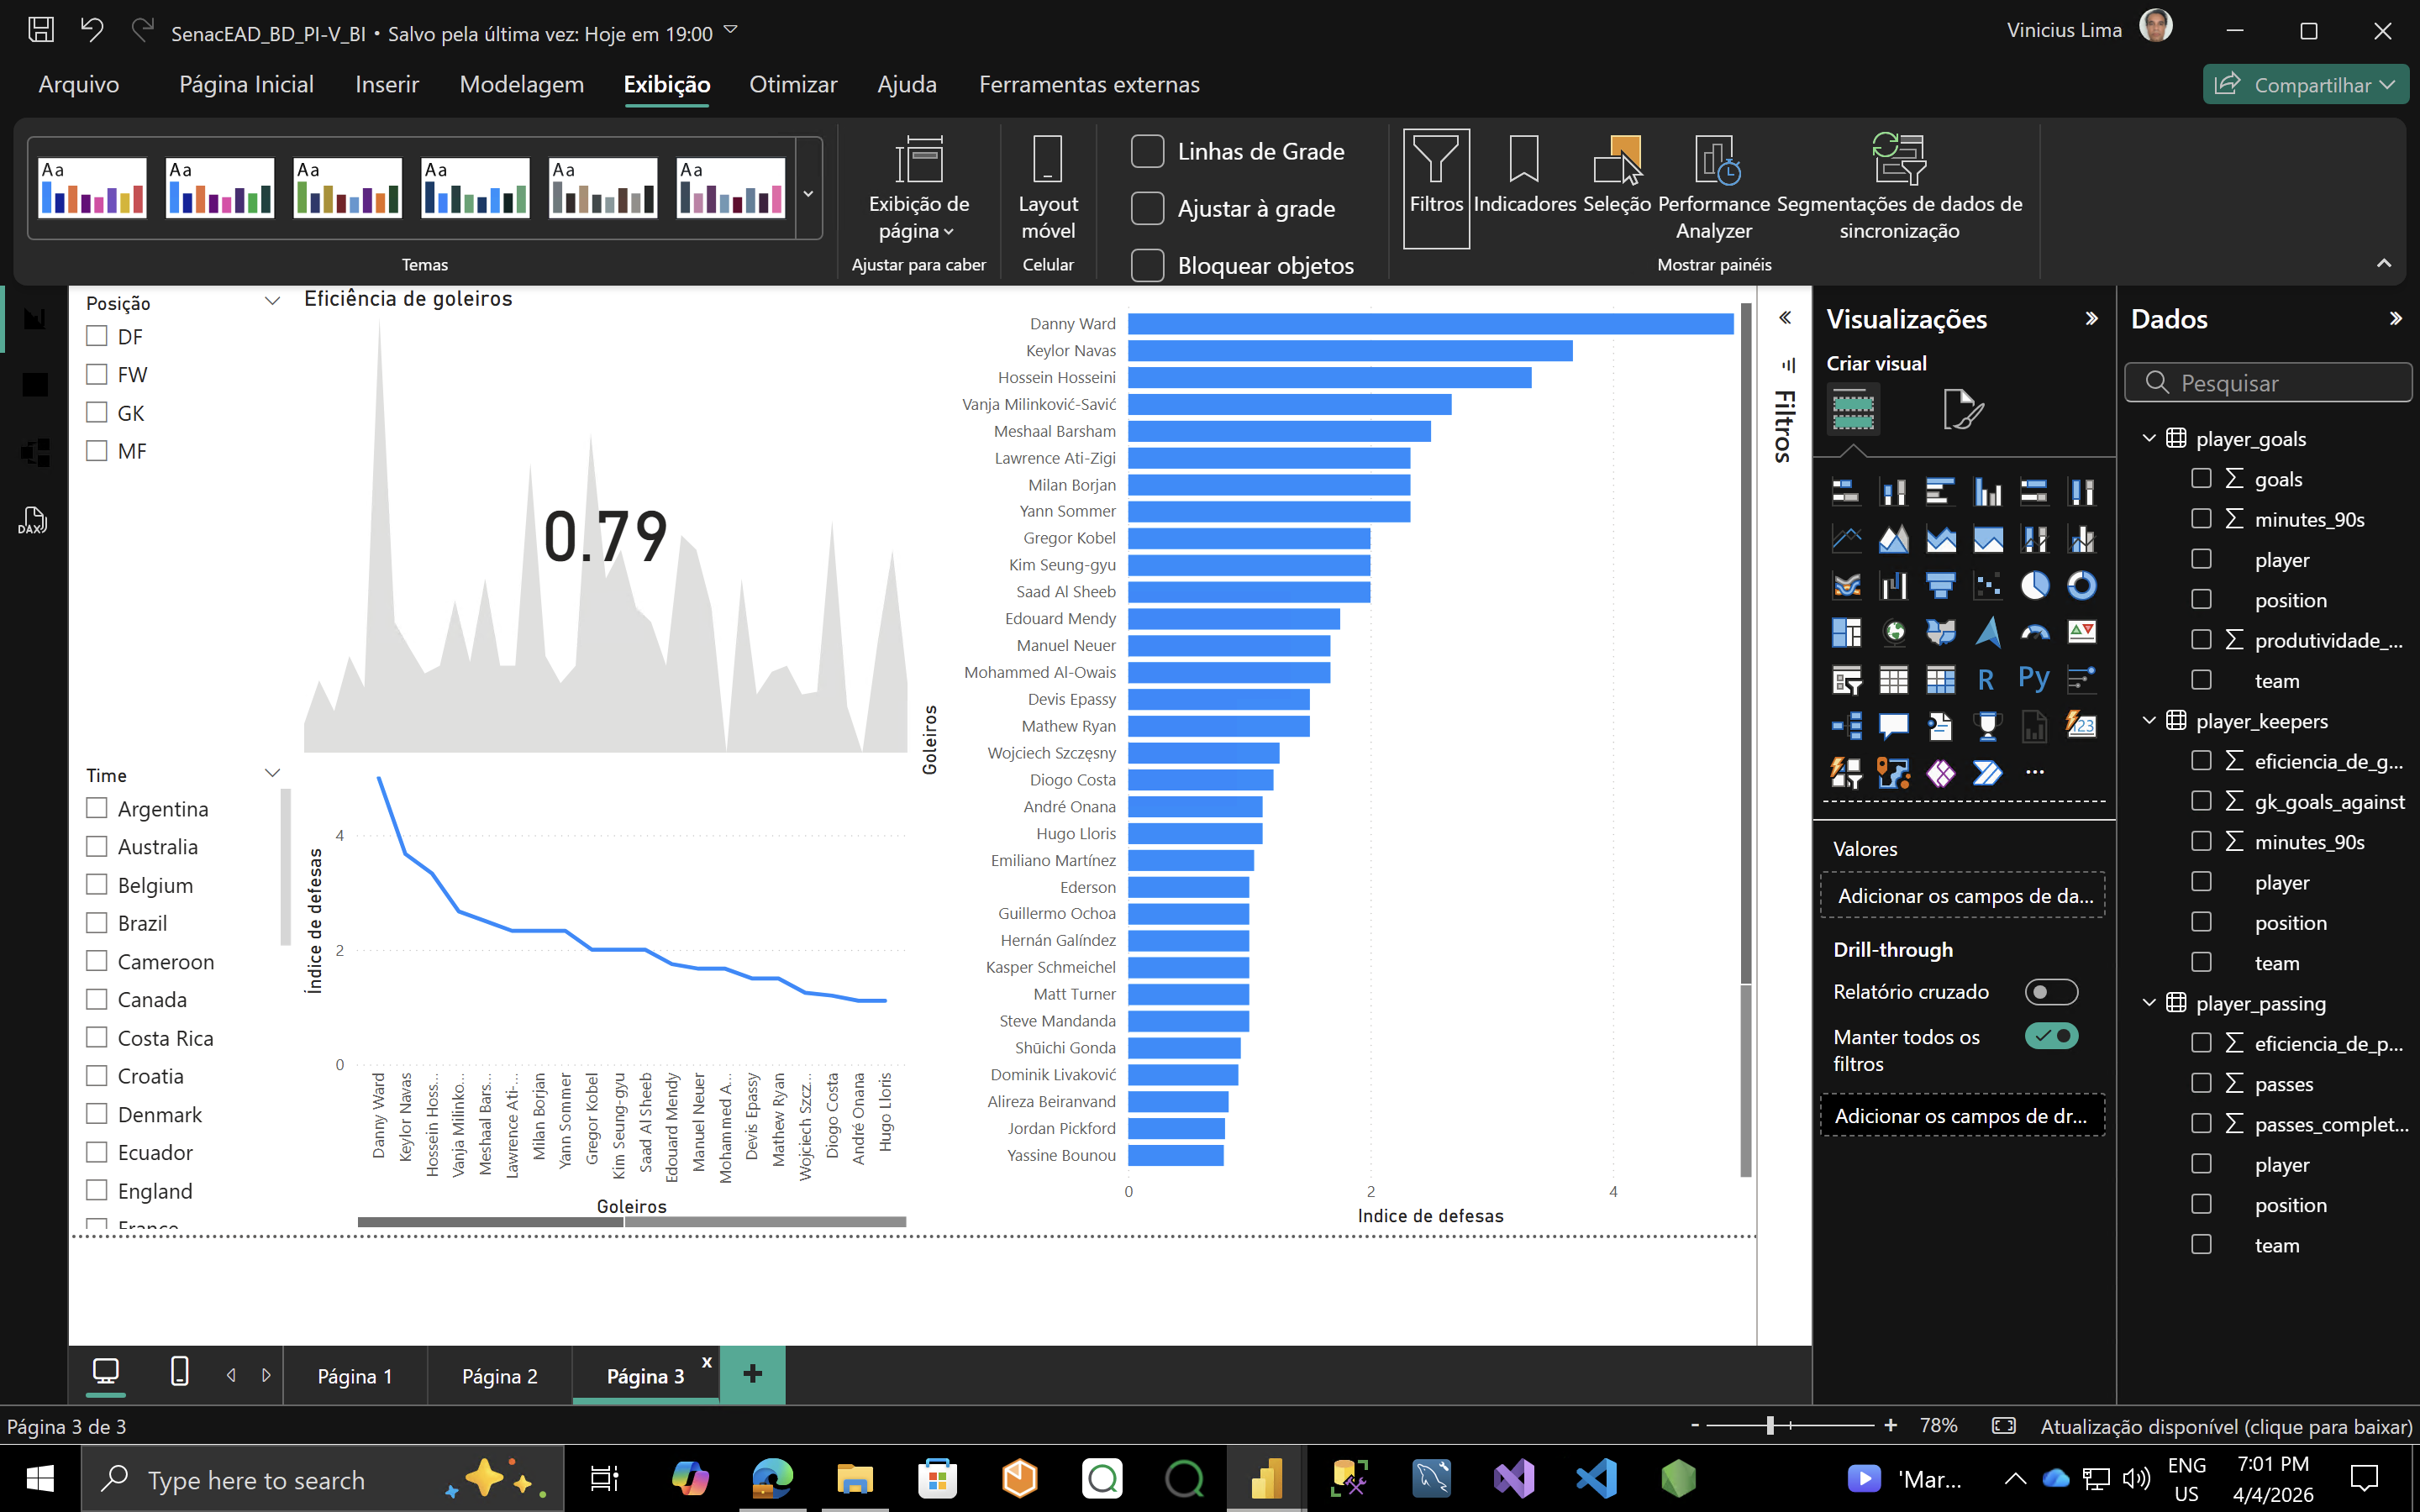

The dashboard page shown, as its layout file describes it:
{"tool":"powerbi","page":{"name":"Página 3","canvas":[1280,720],"ordinal":2},"visuals":[{"type":"clusteredBarChart","title":"Eficiência de goleiros","fields":{"Category":["player_keepers.player"],"Y":["Sum(player_keepers.eficiencia_de_goleiros)"]},"box":[640,0,641.3,719],"z":0},{"type":"slicer","title":"Posição","fields":{"Values":["player_stats.position"]},"box":[0,0,173.4,359.5],"z":1000},{"type":"slicer","fields":{"Values":["player_stats.team"]},"box":[0,357.9,173.4,362.1],"z":2000},{"type":"kpi","title":"Eficiência de goleiros","fields":{"Indicator":["Sum(player_keepers.eficiencia_de_goleiros)"],"TrendLine":["player_keepers.player"]},"box":[173.4,0,467.9,359.5],"z":2001},{"type":"lineChart","fields":{"Y":["Sum(player_keepers.eficiencia_de_goleiros)"],"Category":["player_keepers.player"]},"box":[173,360,467,360],"z":2002}]}

Visuals, with their boxes on the page's 1280x720 design canvas (x1, y1, x2, y2). These are canvas units, not pixel positions in the 2420x1512 screenshot, which may show the page scaled, cropped or inside an application window:
"Eficiência de goleiros" clusteredBarChart: BBox(640, 0, 1281, 719)
"Posição" slicer: BBox(0, 0, 173, 360)
slicer - player_stats.team: BBox(0, 358, 173, 720)
"Eficiência de goleiros" kpi: BBox(173, 0, 641, 360)
lineChart - Sum(player_keepers.eficiencia_de_goleiros) x player_keepers.player: BBox(173, 360, 640, 720)
